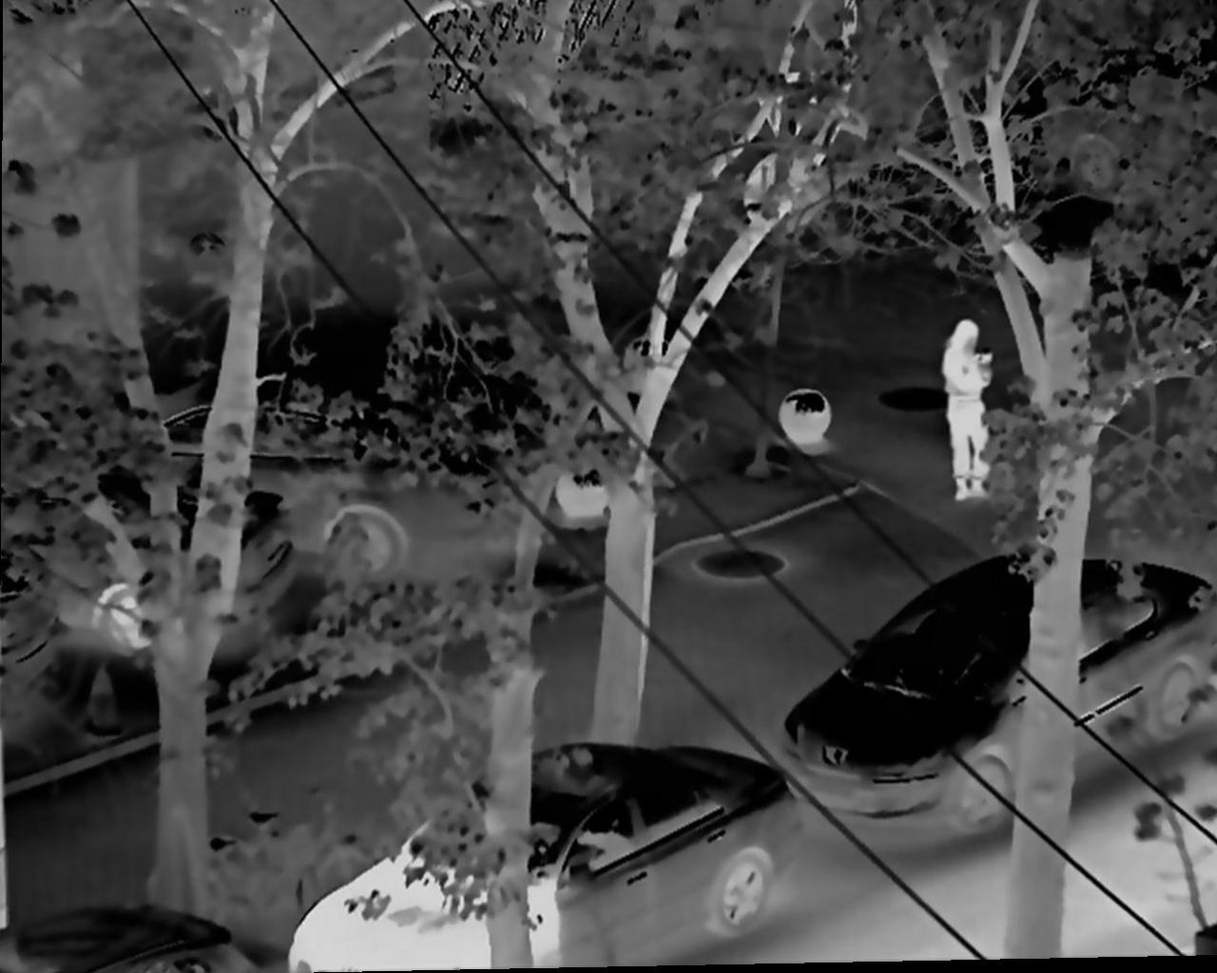person: (924, 315, 1002, 504)
